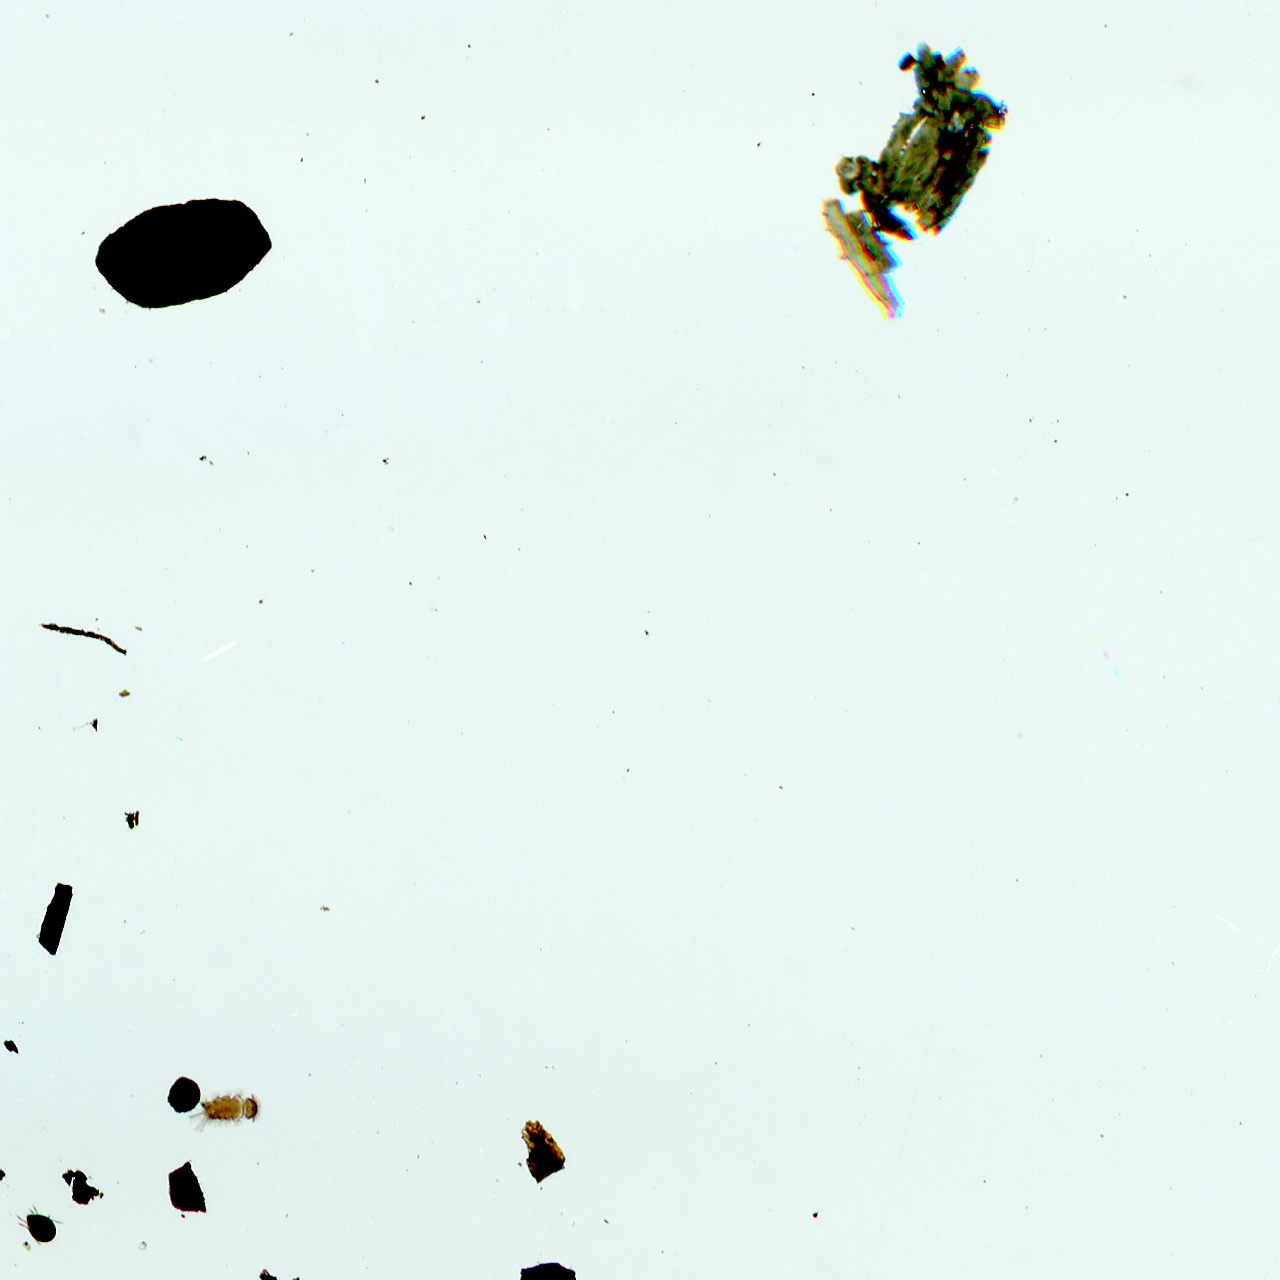arthropod: (188, 1086, 264, 1135), (11, 1197, 69, 1249)
